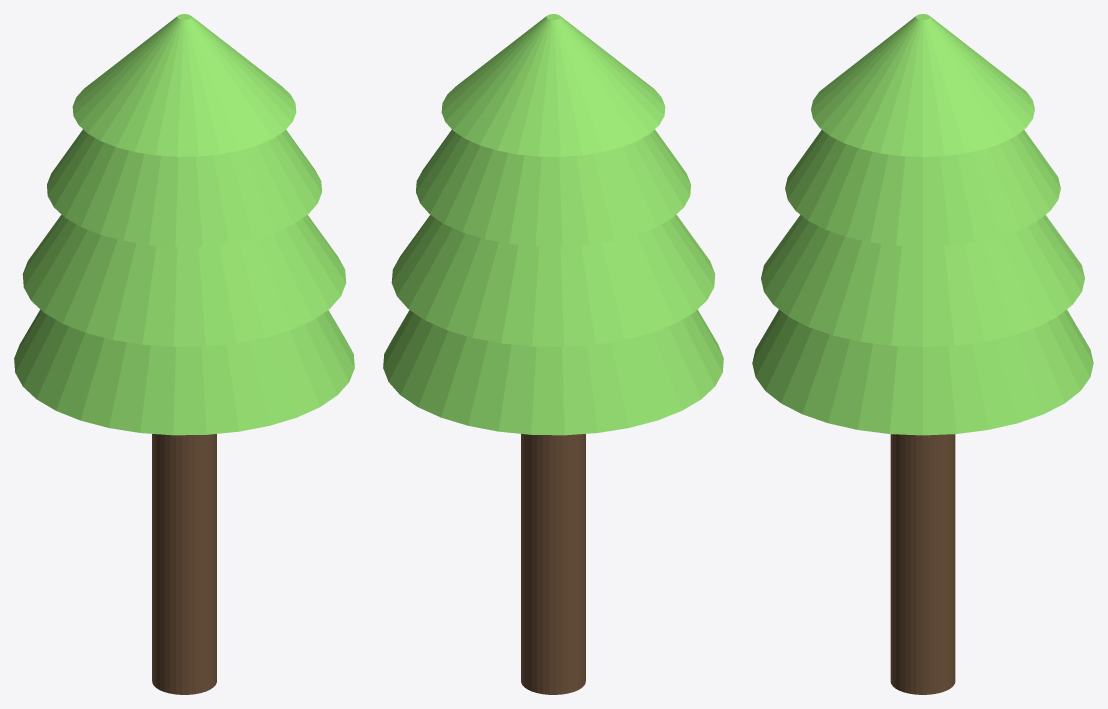
File: tree.fbx
The picture shows the model from 3 angles, left to right: view 1: azimuth 30°, elevation 25°; view 2: azimuth 150°, elevation 25°; view 3: azimuth 270°, elevation 25°; orthographic projection.
Parts seen in each view (by area): view 1: Tree; view 2: Tree; view 3: Tree.
Boxes of the visible parts, x1=… form: Tree: x1=14, y1=14, x2=354, y2=694; Tree: x1=383, y1=14, x2=723, y2=694; Tree: x1=752, y1=14, x2=1093, y2=694.
Bounding box in the file's own units: 5.73 × 12.3 × 5.73.
